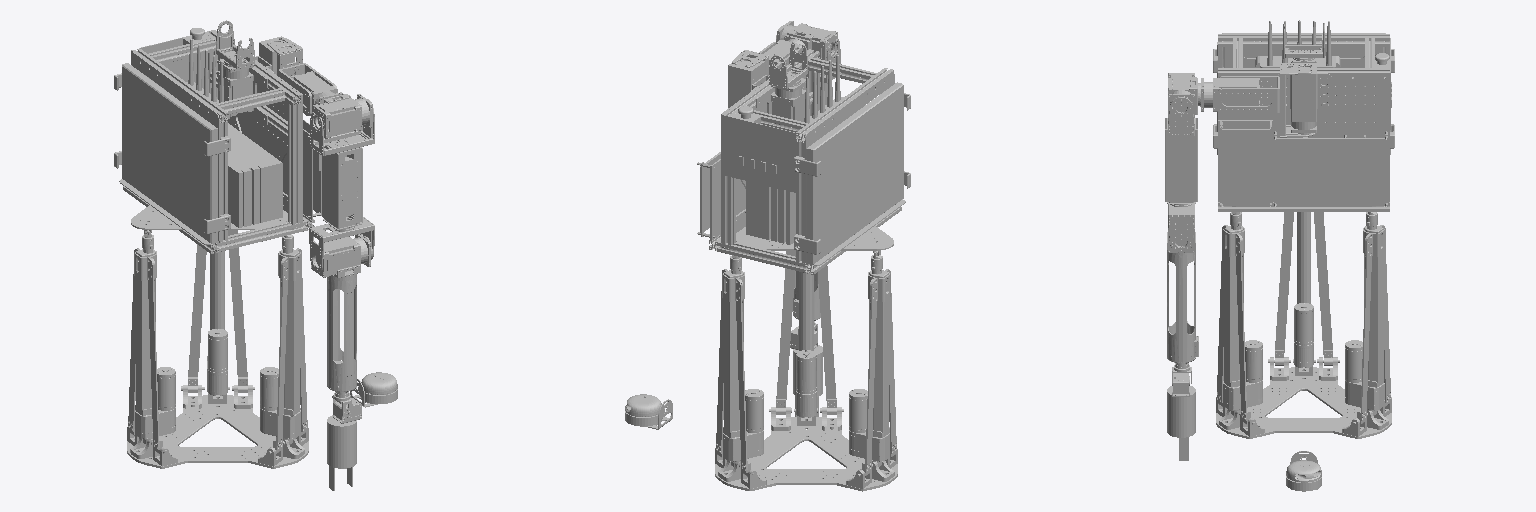
The robot description file, URDF, robot "hrvl_gbot":
<?xml version="1.0" ?>
<robot name="hrvl_gbot">
    <material name="orange">
        <color rgba="0.57 0.17 0.0 1.0" />
    </material>
    <material name="white">
        <color rgba="0.8 0.8 0.8 1.0" />
    </material>
    <material name="whiteT">
        <color rgba="0.8 0.8 0.8 0.5" />
    </material>
    <material name="steel">
        <color rgba="0.75 0.75 0.75 0.30" />
    </material>
    <material name="gray">
        <color rgba="0.2 0.2 0.2 0.9" />
    </material>
    <material name="black">
        <color rgba="0.0 0.0 0.0 1.0" />
    </material>
    <link name="base_footprint">
    </link>
    <gazebo reference="base_footprint">
	    <material>Gazebo/white</material>
    </gazebo>

    <link name="base_link">
        <visual>
            <geometry>
                <mesh filename="package://hrvl_gbot_description/stl/MobilePlatform_BodyOnly.STL" scale="0.001 0.001 0.001" />
            </geometry>
            <material name="white" />
            <origin rpy="0 -1.570796 3.141592" xyz="-0.2 0 0" />
        </visual>
        
        
    	<inertial>
            <mass value="15.0" />
            <inertia ixx="0.03" iyy="0.03" izz="0.03" ixy="0.0" ixz="0.0" iyz="0.0" />
        </inertial>
    </link>

    <gazebo reference="base_link">
	    <material>Gazebo/white</material>
    </gazebo>

    <joint name="base_link_joint" type="fixed">
        <axis xyz="0 0 1" />
        <origin rpy="0 0 0" xyz="0 0 0.1" />
        <parent link="base_footprint" />
        <child link="base_link" />
    </joint>
    <link name="wheel1">
        <visual>
            <geometry>
                <mesh filename="package://hrvl_gbot_description/stl/MPO-500-WHEEL.dae" scale="-0.0006 0.0005 0.0006" />
            </geometry>
            <material name="white" />
            <origin rpy="0 0 0" xyz="0 0 0" />
        </visual>
       
	    <inertial>
            <mass value="0.2" />
            <inertia ixx="0.03" iyy="0.03" izz="0.03" ixy="0.0" ixz="0.0" iyz="0.0" />
        </inertial>

    </link>
    <gazebo reference="wheel1">
	    <material>Gazebo/white</material>
    </gazebo>

    <joint name="wheel1_joint" type="continuous">
        <axis xyz="0 1 0" />
        <limit effort="1000.0" velocity="1.0" />
        <origin rpy="0 0 0" xyz="0.20 0.225 -0.02" />
        <parent link="base_link" />
        <child link="wheel1" />
    </joint>
    <link name="wheel2">
        <visual>
            <geometry>
                <mesh filename="package://hrvl_gbot_description/stl/MPO-500-WHEEL.dae" scale="0.0006 0.0005 0.0006" />
            </geometry>
            <material name="white" />
            <origin rpy="0 0 0" xyz="0 0 0" />
        </visual>
        
        <inertial>
            <mass value="0.2" />
            <inertia ixx="0.03" iyy="0.03" izz="0.03" ixy="0.0" ixz="0.0" iyz="0.0" />
        </inertial>

    </link>
    <gazebo reference="wheel2">
	    <material>Gazebo/white</material>
    </gazebo>

    <joint name="wheel2_joint" type="continuous">
        <axis xyz="0 1 0" />
        <limit effort="1000.0" velocity="1.0" />
        <origin rpy="0 0 0" xyz="0.20 -0.225 -0.02" />
        <parent link="base_link" />
        <child link="wheel2" />
    </joint>
    <link name="wheel3">
        <visual>
            <geometry>
                <mesh filename="package://hrvl_gbot_description/stl/MPO-500-WHEEL.dae" scale="0.0006 0.0005 0.0006" />
            </geometry>
            <material name="white" />
            <origin rpy="0 0 0" xyz="0 0 0" />
        </visual>
       
        <inertial>
            <mass value="0.2" />
            <inertia ixx="0.03" iyy="0.03" izz="0.03" ixy="0.0" ixz="0.0" iyz="0.0" />
        </inertial>
    </link>
    <gazebo reference="wheel3">
	    <material>Gazebo/white</material>
    </gazebo>

    <joint name="wheel3_joint" type="continuous">
        <axis xyz="0 1 0" />
        <limit effort="1000.0" velocity="1.0" />
        <origin rpy="0 0 0" xyz="-0.20 0.225 -0.02" />
        <parent link="base_link" />
        <child link="wheel3" />
    </joint>
    <link name="wheel4">
        <visual>
            <geometry>
                <!--<cylinder length="0.055" radius=".075" /> -->
                <mesh filename="package://hrvl_gbot_description/stl/MPO-500-WHEEL.dae" scale="-0.0006 0.0005 0.0006" />
            </geometry>
            <material name="white" />
            <origin rpy="0 0 0" xyz="0 0 0" />
        </visual>
       
        <inertial>
            <mass value="0.2" />
            <inertia ixx="0.03" iyy="0.03" izz="0.03" ixy="0.0" ixz="0.0" iyz="0.0" />
        </inertial>
    </link>
    <gazebo reference="wheel4">
	    <material>Gazebo/white</material>
    </gazebo>

    <joint name="wheel4_joint" type="continuous">
        <axis xyz="0 1 0" />
        <limit effort="1000.0" velocity="1.0" />
        <origin rpy="0 0 0" xyz="-0.20 -0.225 -0.02" />
        <parent link="base_link" />
        <child link="wheel4" />
    </joint>
    <!-- Sensors -->
    <link name="rotlidar_link">
        <visual>
            <geometry>
                <!--<cylinder length="0.055" radius=".075" /> -->
                <mesh filename="package://hrvl_gbot_description/stl/RotatingLidar3_front_only.STL" scale="0.001 0.001 0.001" />
            </geometry>
            <material name="white" />
            <origin rpy="0 0 0" xyz="-0.0513 -0.0278 -0.033" />
        </visual>
       
        <inertial>
            <mass value="0.1" />
            <inertia ixx="0.03" iyy="0.03" izz="0.03" ixy="0.0" ixz="0.0" iyz="0.0" />
        </inertial>
    </link>
    <gazebo reference="rotlidar_link">
	    <material>Gazebo/white</material>
    </gazebo>

    <joint name="rotlidar_joint" type="revolute">
        <axis xyz="1 0 0" />
        <limit effort="1000.0" lower="-3.141592" upper="3.141592" velocity="1.0" />
        <origin rpy="0 0 0" xyz="0.3133 0 0.26475" />
        <parent link="base_link" />
        <child link="rotlidar_link" />
    </joint>
    <link name="waist_link">
        <visual>
            <geometry>
                <mesh filename="package://hrvl_gbot_description/stl/Waist_Final_Simple.STL" scale="0.001 0.001 0.001" />
            </geometry>
            <material name="white" />
            <origin rpy="1.570796 0 1.570796 " xyz="-0.205 0 -0.136" />
        </visual>
        
        <inertial>
            <mass value="2.0" />
            <inertia ixx="0.03" iyy="0.03" izz="0.03" ixy="0.0" ixz="0.0" iyz="0.0" />
        </inertial>
    </link>
    <gazebo reference="waist_link">
	    <material>Gazebo/white</material>
    </gazebo>

    <joint name="waist_link_joint" type="fixed">
        <axis xyz="0 0 1" />
        <origin rpy="0 0 0" xyz="-0.016 0 0.365" />
        <parent link="base_link" />
        <child link="waist_link" />
    </joint>
    <link name="torso_link_x" >
        <inertial>
            <mass value="0.1" />
            <inertia ixx="0.03" iyy="0.03" izz="0.03" ixy="0.0" ixz="0.0" iyz="0.0" />
        </inertial>
    </link>
    <gazebo reference="torso_link_x">
	    <material>Gazebo/white</material>
    </gazebo>

    <joint name="torso_joint_x" type="revolute">
        <axis xyz="1 0 0" />
        <origin rpy="0 0 0" xyz="-0.016 0 0.730" />
        <limit effort="1000.0" lower="-0.33" upper="0.33" velocity="1.0" />
        <parent link="base_link" />
        <child link="torso_link_x" />
    </joint>
    <link name="torso_link_y">
        <visual>
            <geometry>
                <mesh filename="package://hrvl_gbot_description/stl/BodyBox.STL" scale="0.001 0.001 0.001" />
            </geometry>
            <material name="white" />
            <!--<origin rpy="0 0 0" xyz="0 0 0.5125" />-->
            <origin rpy="1.570796 0 1.570796" xyz="0 0 0" />
        </visual>
        
        <inertial>
            <mass value="2.0" />
            <inertia ixx="0.03" iyy="0.03" izz="0.03" ixy="0.0" ixz="0.0" iyz="0.0" />
        </inertial>
    </link>
    <gazebo reference="torso_link_y">
	    <material>Gazebo/white</material>
    </gazebo>
    <joint name="torso_joint_y" type="revolute">
        <axis xyz="0 1 0" />
        <origin rpy="0 0 0" xyz="0 0 0" />
        <limit effort="1000.0" lower="-0.25" upper="0.3" velocity="1.0" />
        <parent link="torso_link_x" />
        <child link="torso_link_y" />
    </joint>



  <!-- Pan-Tilt side -->
    <link name="neck_link_z">
        <visual>
            <geometry>
                <!-- <box size="0.054 0.054 0.138" /> -->
                <mesh filename="package://hrvl_gbot_description/stl/FRP42-H210_with_axis.STL" scale="0.001 0.001 0.001" />
            </geometry>
            <material name="white" />
            <origin rpy="1.570796 0 1.570796" xyz="-0.021 -0.0415 -0.052" />
            <!--<origin rpy="1.570796 0 1.570796" xyz="0 0 0" /> -->
        </visual>
        
	    <inertial>
            <mass value="0.1" />
            <inertia ixx="0.03" iyy="0.03" izz="0.03" ixy="0.0" ixz="0.0" iyz="0.0" />
        </inertial>

    </link>

    <gazebo reference="neck_link_z">
	    <material>Gazebo/white</material>
    </gazebo>
    <joint name="neck_joint_z" type="revolute">
        <axis xyz="0 0 1" />
        <origin rpy="0 0 0" xyz="0 0 0.370" />
	    <!-- +- 110 degrees -->
        <limit effort="100.0" lower="-1.91" upper="1.91" velocity="2.0" />
        <parent link="torso_link_y" />
        <child link="neck_link_z" />
    </joint>
    <transmission name="trans1">
	<type>transmission_interface/SimpleTransmission</type>
	<joint name="neck_joint_z">
	<hardwareInterface>hardware_interface/PositionJointInterface</hardwareInterface>
      	</joint>
      	<actuator name="motor2">
        	<hardwareInterface>hardware_interface/PositionJointInterface</hardwareInterface>
        	<mechanicalReduction>1</mechanicalReduction>
      </actuator>
    </transmission>

    <link name="neck_link_y">
        <visual>
            <geometry>
                <mesh filename="package://hrvl_gbot_description/stl/Head_PanTiltModule_Fixed.STL" scale="0.001 0.001 0.001" />
            </geometry>
            <material name="white" />
            <origin rpy="1.570796 0 1.570796" xyz="0 0 0" />
        </visual>
        
        <inertial>
            <mass value="0.1" />
            <inertia ixx="0.03" iyy="0.03" izz="0.03" ixy="0.0" ixz="0.0" iyz="0.0" />
        </inertial>
    </link>
    <gazebo reference="neck_link_y">
	    <material>Gazebo/white</material>
    </gazebo>
    <joint name="neck_joint_y" type="revolute">
        <axis xyz="0 1 0" />
        <origin rpy="0 0 0" xyz="0 0 0" />
	        <!-- -30 ~ 70 degrees -->
        <limit effort="1000.0" lower="-0.523" upper="1.22" velocity="2.0" />
        <parent link="neck_link_z" />
        <child link="neck_link_y" />
    </joint>
    <transmission name="trans1">
	<type>transmission_interface/SimpleTransmission</type>
	<joint name="neck_joint_y">
	<hardwareInterface>hardware_interface/PositionJointInterface</hardwareInterface>
      	</joint>
      	<actuator name="motor1">
        	<hardwareInterface>hardware_interface/PositionJointInterface</hardwareInterface>
        	<mechanicalReduction>1</mechanicalReduction>
      </actuator>
    </transmission>

    <link name="lidar_link" >
        <inertial>
            <mass value="0.001" />
            <inertia ixx="0.03" iyy="0.03" izz="0.03" ixy="0.0" ixz="0.0" iyz="0.0" />
        </inertial>
    </link>
    <gazebo reference="lidar_link">
	    <material>Gazebo/white</material>
    </gazebo>
    <joint name="lidar_joint" type="fixed">
        <axis xyz="0 0 1" />
        <origin rpy="-1.570796 0 -1.570796" xyz="0 0 0.07" />
        <parent link="neck_link_y" />
        <child link="lidar_link" />
    </joint>

    <link name="kinect_link" >
        <inertial>
            <mass value="0.001" />
            <inertia ixx="0.03" iyy="0.03" izz="0.03" ixy="0.0" ixz="0.0" iyz="0.0" />
        </inertial>
    </link>
    <gazebo reference="kinect_link">
	    <material>Gazebo/white</material>
    </gazebo>
    <joint name="kinect_joint" type="fixed">
        <axis xyz="1 0 0" />
        <!--origin rpy="0 0 0" xyz="0.095 0 0.155" /-->
        <origin rpy="-1.570796 0 -1.570796" xyz="0.095 0 0.155" />
        <parent link="neck_link_y" />
        <child link="kinect_link" />
    </joint>

    <link name="zed_link" >
        <inertial>
            <mass value="0.001" />
            <inertia ixx="0.03" iyy="0.03" izz="0.03" ixy="0.0" ixz="0.0" iyz="0.0" />
        </inertial>
    </link>
    <gazebo reference="zed_link">
	    <material>Gazebo/white</material>
    </gazebo>
    <joint name="zed_joint" type="fixed">
        <axis xyz="1 0 0" />
        <!--origin rpy="0 0 0" xyz="0.1 0 0.200" /-->
        <origin rpy="-1.570796 0 -1.570796" xyz="0.1 0 0.200" />
        <parent link="neck_link_y" />
        <child link="zed_link" />
    </joint>



    <!-- ARM-specific links & joints -->
    <link name="arm_mid_motor_link" >
        <inertial>
            <mass value="0.00001" />
            <inertia ixx="0.0003" iyy="0.0003" izz="0.0003" ixy="0.000" ixz="0.0" iyz="0.0" />
        </inertial>
    </link>
    <gazebo reference="arm_mid_motor_link">
	    <material>Gazebo/white</material>
    </gazebo>
    <joint name="arm_mid_motor_joint" type="fixed">
        <axis xyz="0 0 1" />
        <origin rpy="0 0 0" xyz="0.1 0 0.273" />
        <parent link="torso_link_y" />
        <child link="arm_mid_motor_link" />
    </joint>
    <link name="arm_mid_motor_link_z">
        <visual>
            <geometry>
                <!-- <box size="0.054 0.210 0.054" /> -->
                <mesh filename="package://hrvl_gbot_description/stl/center_rotation_module_fixed.STL" scale="0.001 0.001 0.001" />
            </geometry>
            <material name="white" />
            <!--<origin rpy="0 0 0" xyz="0 0 0.5125" />-->
            <origin rpy="-1.570796 0 -1.570796" xyz="-0.027 0.21752 0.027" />
        </visual>
       
        <inertial>
            <mass value="0.1" />
            <inertia ixx="0.03" iyy="0.03" izz="0.03" ixy="0.0" ixz="0.0" iyz="0.0" />
        </inertial>
    </link>
    <gazebo reference="arm_mid_motor_link_z">
	    <material>Gazebo/white</material>
    </gazebo>
    <joint name="arm_mid_motor_joint_z" type="revolute">
        <axis xyz="0 0 1" />
        <origin rpy="3.141592 0 0" xyz="0 0 0" />
        <limit effort="1000.0" lower="-3.141592" upper="0" velocity="1.0" />
        <parent link="arm_mid_motor_link" />
        <child link="arm_mid_motor_link_z" />
    </joint>
    <link name="arm_shoulder_link_y">
        <visual>
            <geometry>
                <mesh filename="package://hrvl_gbot_description/stl/ShoulderYChild.STL" scale="0.001 0.001 0.001" />
            </geometry>
            <material name="white" />
            <origin rpy="-1.570796 0 0" xyz="-0.054 0 0.054" />
        </visual>
        
        <inertial>
            <mass value="0.1" />
            <inertia ixx="0.03" iyy="0.03" izz="0.03" ixy="0.0" ixz="0.0" iyz="0.0" />
        </inertial>
    </link>
    <gazebo reference="arm_shoulder_link_y">
	    <material>Gazebo/white</material>
    </gazebo>
    <joint name="arm_shoulder_joint_y" type="revolute">
        <axis xyz="0 1 0" />
        <origin rpy="0 0 0" xyz="0 0.250 0" />
        <limit effort="1000.0" lower="-3.141592" upper="3.141592" velocity="1.0" />
        <parent link="arm_mid_motor_link_z" />
        <child link="arm_shoulder_link_y" />
    </joint>

    <link name="arm_shoulder_link_x">
        <visual>
            <geometry>
                <mesh filename="package://hrvl_gbot_description/stl/ArmUpperZ.STL" scale="0.001 0.001 0.001" />
            </geometry>
            <material name="white" />
            <!--<origin rpy="0 0 0" xyz="0 0 0.5125" />-->
            <origin rpy="3.141592 0 0" xyz="-0.06 0.027 0.0155" />
        </visual>
       
        <inertial>
            <mass value="0.1" />
            <inertia ixx="0.03" iyy="0.03" izz="0.03" ixy="0.0" ixz="0.0" iyz="0.0" />
        </inertial>
    </link>
    <gazebo reference="arm_shoulder_link_x">
	    <material>Gazebo/white</material>
    </gazebo>
    <joint name="arm_shoulder_joint_x" type="revolute">
        <axis xyz="1 0 0" />
        <origin rpy="3.141592 0 0" xyz="0 0 0" />
        <limit effort="1000.0" lower="-3.141592" upper="0.52" velocity="1.0" />
        <parent link="arm_shoulder_link_y" />
        <child link="arm_shoulder_link_x" />
    </joint>

    <link name="arm_shoulder_link_z">
        <visual>
            <geometry>
                <!-- <cylinder length="0.050" radius=".030" /> -->
                <mesh filename="package://hrvl_gbot_description/stl/ArmElbow.STL" scale="0.001 0.001 0.001" />
            </geometry>
            <material name="white" />
            <origin rpy="1.570796 0 1.570796" xyz="-0.06 -0.027 -0.0235" />
        </visual>
        
        <inertial>
            <mass value="0.1" />
            <inertia ixx="0.03" iyy="0.03" izz="0.03" ixy="0.0" ixz="0.0" iyz="0.0" />
        </inertial>
    </link>
    <gazebo reference="arm_shoulder_link_z">
	    <material>Gazebo/white</material>
    </gazebo>
    <joint name="arm_shoulder_joint_z" type="revolute">
        <axis xyz="0 0 -1" />
        <!-- upper 120 degree, lower -90 degree -->
        <limit effort="1000.0" lower="-1.570796" upper="2.094394" velocity="1.0" />
        <origin rpy="0 0 0" xyz="0 0 -0.305" />
        <parent link="arm_shoulder_link_x" />
        <child link="arm_shoulder_link_z" />
    </joint>

    <link name="arm_lower_link_x">
        <visual>
            <geometry>
                <mesh filename="package://hrvl_gbot_description/stl/ArmLower.STL" scale="0.001 0.001 0.001" />
            </geometry>
            <material name="white" />
            <origin rpy="3.141592 0 -1.570796" xyz="0.051 0.0155 0.025" />
        </visual>
        
        <inertial>
            <mass value="0.1" />
            <inertia ixx="0.03" iyy="0.03" izz="0.03" ixy="0.0" ixz="0.0" iyz="0.0" />
        </inertial>
    </link>
    <gazebo reference="arm_lower_link_x">
	    <material>Gazebo/white</material>
    </gazebo>
    <joint name="arm_lower_joint_x" type="revolute">
        <axis xyz="-1 0 0" />
        <origin rpy="0 0 0" xyz="0 0 0" />
	<!-- Human-like motion??? for this lower should be fixed as 0 --> 
        <limit effort="1000.0" lower="0" upper="2.10" velocity="1.0" />
        <parent link="arm_shoulder_link_z" />
        <child link="arm_lower_link_x" />
    </joint>

    <link name="wrist_roll_link">
        <visual>
            <geometry>
                <mesh filename="package://hrvl_gbot_description/stl/wrist_roll.STL" scale="0.001 0.001 0.001" />
            </geometry>
            <material name="white" />
            <origin rpy="3.141592 0 0" xyz="-0.02 0.017 0.021" />
        </visual>
       
        <inertial>
            <mass value="0.1" />
            <inertia ixx="0.03" iyy="0.03" izz="0.03" ixy="0.0" ixz="0.0" iyz="0.0" />
        </inertial>
    </link>
    <gazebo reference="wrist_roll_link">
	    <material>Gazebo/white</material>
    </gazebo>
    <joint name="wrist_roll_joint" type="revolute">
        <axis xyz="0 0 -1" />
	<!-- plus-minus 120 degree -->
        <limit effort="1000.0" lower="-2.1" upper="2.1" velocity="1.0" />
        <origin rpy="0 0 1.570796" xyz="0 0 -0.300" />
        <parent link="arm_lower_link_x" />
        <child link="wrist_roll_link" />
    </joint>

    <link name="wrist_pitch_link">
        <visual>
            <geometry>
                <mesh filename="package://hrvl_gbot_description/stl/wrist_end.STL" scale="0.001 0.001 0.001" />
            </geometry>
            <material name="white" />
            <origin rpy="3.141592 1.570796 3.141592" xyz="-0.02 -0.03525 0.01425" />
        </visual>
        
        <inertial>
            <mass value="0.1" />
            <inertia ixx="0.03" iyy="0.03" izz="0.03" ixy="0.0" ixz="0.0" iyz="0.0" />
        </inertial>
    </link>
    <gazebo reference="wrist_pitch_link">
	    <material>Gazebo/white</material>
    </gazebo>
    <joint name="wrist_pitch_joint" type="revolute">
        <axis xyz="-1 0 0" />
        <!--limit effort="1000.0" lower="-0.46" upper="1.570796" velocity="1.0" /-->
        <limit effort="1000.0" lower="-0.40" upper="0.470796" velocity="1.0" />
        <origin rpy="0 0 0" xyz="0 0 -0.040" />
        <parent link="wrist_roll_link" />
        <child link="wrist_pitch_link" />
    </joint>

    <link name="tool_link">
        <visual>
            <geometry>
                <cylinder length="0.0925" radius=".03" />
            </geometry>
            <material name="white" />
            <origin rpy="0 1.570796 0" xyz="-0.04514 0 0" />
        </visual>
        <visual>
            <geometry>
                <cylinder length="0.0925" radius=".03" />
            </geometry>
            <origin rpy="0 1.570796 0" xyz="-0.04514 0 0" />
        </visual>
        <inertial>
            <mass value="0.1" />
            <inertia ixx="0.03" iyy="0.03" izz="0.03" ixy="0.0" ixz="0.0" iyz="0.0" />
        </inertial>
    </link>
    <gazebo reference="tool_link">
	    <material>Gazebo/white</material>
    </gazebo>
    <joint name="tool_link_joint" type="fixed">
        <axis xyz="1 0 0" />
        <origin rpy="0 1.570996 0" xyz="0.00 0 -0.1125" />
        <parent link="wrist_pitch_link" />
        <child link="tool_link" />
    </joint>

    <link name="left_gripper_link">
        <visual>
            <geometry>
                <box size="0.02 0.002 0.055" />
            </geometry>
            <material name="white" />
            <origin rpy="0 1.570796 0" xyz="-0.0275 0 0" />
        </visual>
       
        <inertial>
            <mass value="0.01" />
            <inertia ixx="0.03" iyy="0.03" izz="0.03" ixy="0.0" ixz="0.0" iyz="0.0" />
        </inertial>
    </link>
    <gazebo reference="left_gripper_link">
	    <material>Gazebo/white</material>
    </gazebo>
    <joint name="gripper_joint" type="prismatic">
        <axis xyz="0 1 0" />
        <limit effort="1000.0" lower="0.002" upper="0.04" velocity="1.0" />
        <parent link="tool_link" />
        <origin rpy="0 0 0" xyz=".0576 0 0.005" />
        <child link="left_gripper_link" />
    </joint>

    <link name="right_gripper_link">
        <visual>
            <geometry>
                <box size="0.02 0.002 0.055" />
            </geometry>
            <material name="white" />
            <origin rpy="0 1.570796 0" xyz="-0.0275 0 0" />
        </visual>
        
        <inertial>
            <mass value="0.1" />
            <inertia ixx="0.03" iyy="0.03" izz="0.03" ixy="0.0" ixz="0.0" iyz="0.0" />
        </inertial>
    </link>
    <gazebo reference="right_gripper_link">
	    <material>Gazebo/white</material>
    </gazebo>
    <joint name="sub_gripper_joint" type="prismatic">
        <axis xyz="0 -1 0" />
        <mimic joint="gripper_joint" />
        <limit effort="1000.0" lower="0.002" upper="0.04" velocity="1.0" />
        <origin rpy="0 0 0" xyz="0.0576 0 0.005" />
        <parent link="tool_link" />
        <child link="right_gripper_link" />
    </joint>


  
  
</robot>

--- What the picture shows (computed from the rendered views, not written in the file) ---
Views: 3 orthographic renders of the robot side by side, from view 1: azimuth 30°, elevation 25°; view 2: azimuth 150°, elevation 25°; view 3: azimuth 270°, elevation 25°.
Model hrvl_gbot with 26 links and 25 joints (12 revolute, 4 continuous, 2 prismatic, 7 fixed), rooted at base_footprint, posed joints at zero except 2 at the middle of their limits (gripper_joint = 0.021, sub_gripper_joint = 0.021).
Visible links, largest first — view 1: torso_link_y, waist_link, arm_lower_link_x, arm_shoulder_link_x, arm_mid_motor_link_z, arm_shoulder_link_y, tool_link, rotlidar_link, arm_shoulder_link_z, neck_link_z; view 2: torso_link_y, waist_link, rotlidar_link, arm_mid_motor_link_z, arm_shoulder_link_y, neck_link_z; view 3: torso_link_y, waist_link, arm_mid_motor_link_z, arm_shoulder_link_x, arm_lower_link_x, tool_link, rotlidar_link, arm_shoulder_link_y, arm_shoulder_link_z, neck_link_z.
Link boxes in pixels (x1,y1,x2,y2): torso_link_y: (114, 28, 321, 253); waist_link: (127, 205, 308, 468); arm_lower_link_x: (311, 234, 372, 392); arm_shoulder_link_x: (310, 108, 374, 231); arm_mid_motor_link_z: (267, 37, 343, 115); arm_shoulder_link_y: (312, 94, 374, 138); tool_link: (327, 415, 356, 468); rotlidar_link: (350, 372, 397, 407); arm_shoulder_link_z: (309, 217, 374, 271); neck_link_z: (216, 20, 254, 68); torso_link_y: (697, 49, 910, 274); waist_link: (715, 226, 897, 491); rotlidar_link: (625, 394, 672, 429); arm_mid_motor_link_z: (732, 35, 809, 75); arm_shoulder_link_y: (776, 21, 837, 60); neck_link_z: (769, 42, 807, 88); torso_link_y: (1213, 20, 1394, 211); waist_link: (1216, 206, 1391, 438); arm_mid_motor_link_z: (1198, 63, 1315, 137); arm_shoulder_link_x: (1165, 98, 1197, 206); arm_lower_link_x: (1167, 223, 1198, 363); tool_link: (1167, 386, 1195, 437); rotlidar_link: (1286, 451, 1321, 491); arm_shoulder_link_y: (1168, 73, 1197, 117); arm_shoulder_link_z: (1168, 204, 1194, 252); neck_link_z: (1284, 23, 1324, 57).
Size in the robot's own frame: 0.6024 by 0.4698 by 0.9286 metres.
11 mesh visuals loaded from 14 distinct referenced files (11 binary STL); not drawn: 6 (reference not matched to a file when rendering).